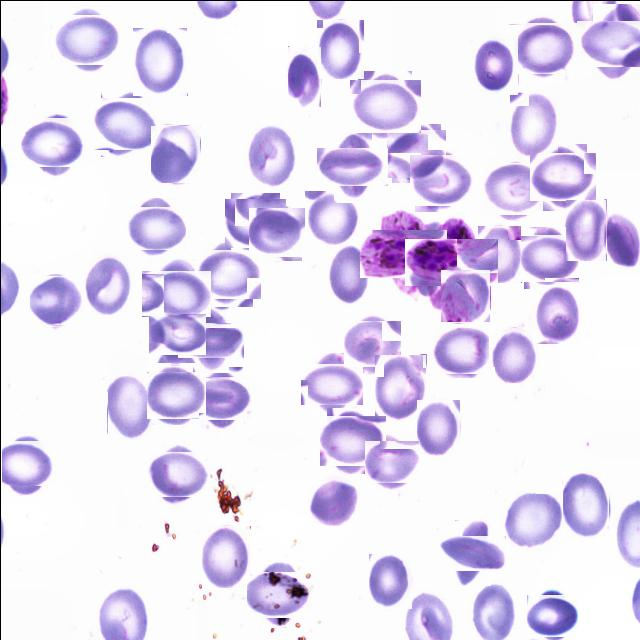red blood cell: (352, 75, 416, 136), (132, 26, 187, 95), (512, 17, 572, 77), (374, 353, 426, 420), (57, 9, 116, 68), (96, 94, 156, 152), (584, 11, 640, 73), (24, 112, 82, 170), (198, 244, 256, 302), (146, 264, 204, 322), (322, 411, 380, 469), (411, 150, 469, 208), (533, 148, 591, 205), (503, 494, 562, 550), (246, 121, 295, 187), (484, 160, 540, 217), (509, 91, 558, 156), (200, 524, 250, 587), (324, 138, 380, 194), (250, 567, 306, 622), (227, 195, 282, 251), (106, 374, 153, 438), (84, 252, 132, 314), (150, 446, 204, 501), (519, 230, 574, 284), (304, 190, 359, 244), (562, 472, 608, 536), (434, 322, 488, 376), (388, 126, 442, 180), (148, 368, 202, 422), (150, 124, 200, 182), (316, 18, 364, 78), (472, 32, 518, 94), (532, 284, 580, 343), (194, 371, 247, 424), (250, 205, 303, 258), (0, 435, 51, 489), (346, 318, 398, 370), (305, 358, 357, 410), (128, 202, 180, 254), (447, 526, 498, 578), (440, 268, 490, 321), (30, 274, 81, 325), (184, 314, 236, 364), (477, 224, 521, 282), (416, 398, 460, 456), (309, 474, 359, 525), (565, 198, 606, 260), (491, 326, 536, 382), (151, 308, 201, 358), (368, 552, 412, 608), (326, 244, 368, 302), (366, 437, 414, 485), (528, 591, 575, 638), (602, 210, 640, 268), (287, 45, 321, 106)
schizont: (416, 226, 486, 298), (369, 220, 437, 288)
